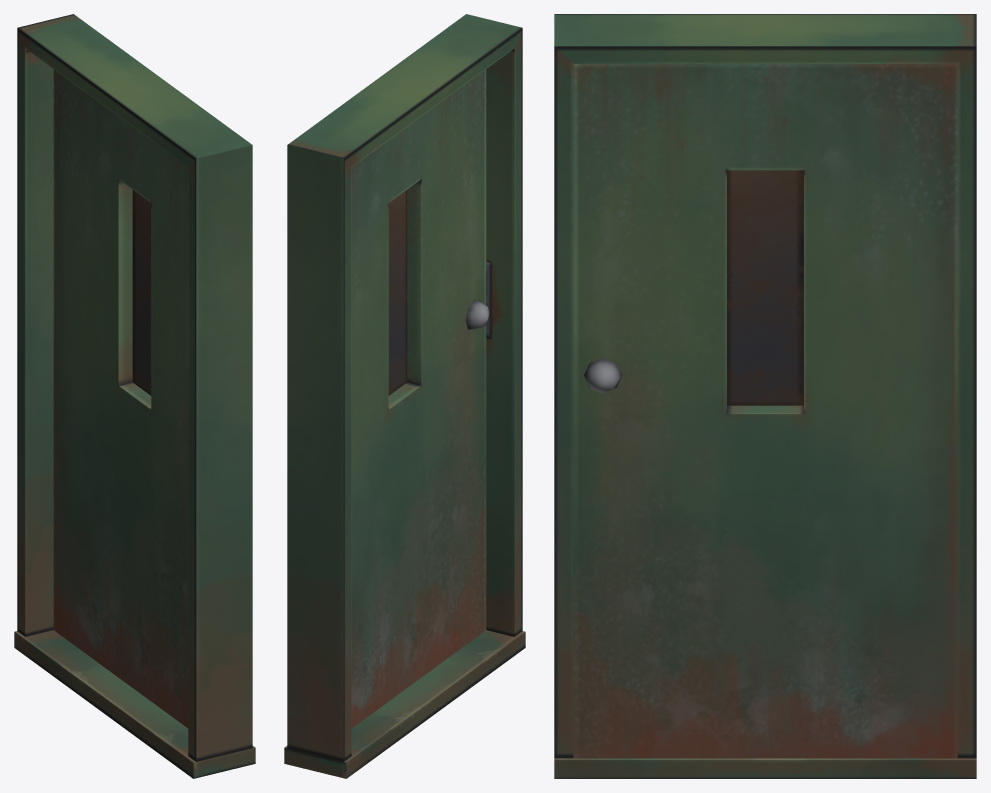
Rendered from door14.FBX.
The picture shows the model from 3 angles, left to right: view 1: azimuth 30°, elevation 25°; view 2: azimuth 150°, elevation 25°; view 3: azimuth 270°, elevation 25°; orthographic projection. The views are drawn at different scales.
Visible parts, largest first — view 1: door14_frame, door14; view 2: door14_frame, door14; view 3: door14, door14_frame.
Part boxes in pixels (x1,y1,x2,y2): door14_frame: [14, 14, 255, 778]; door14: [53, 69, 188, 728]; door14_frame: [284, 14, 525, 778]; door14: [351, 69, 489, 728]; door14: [573, 64, 957, 758]; door14_frame: [554, 14, 976, 778].
Size of the model in its own units: 26 by 210 by 110.
